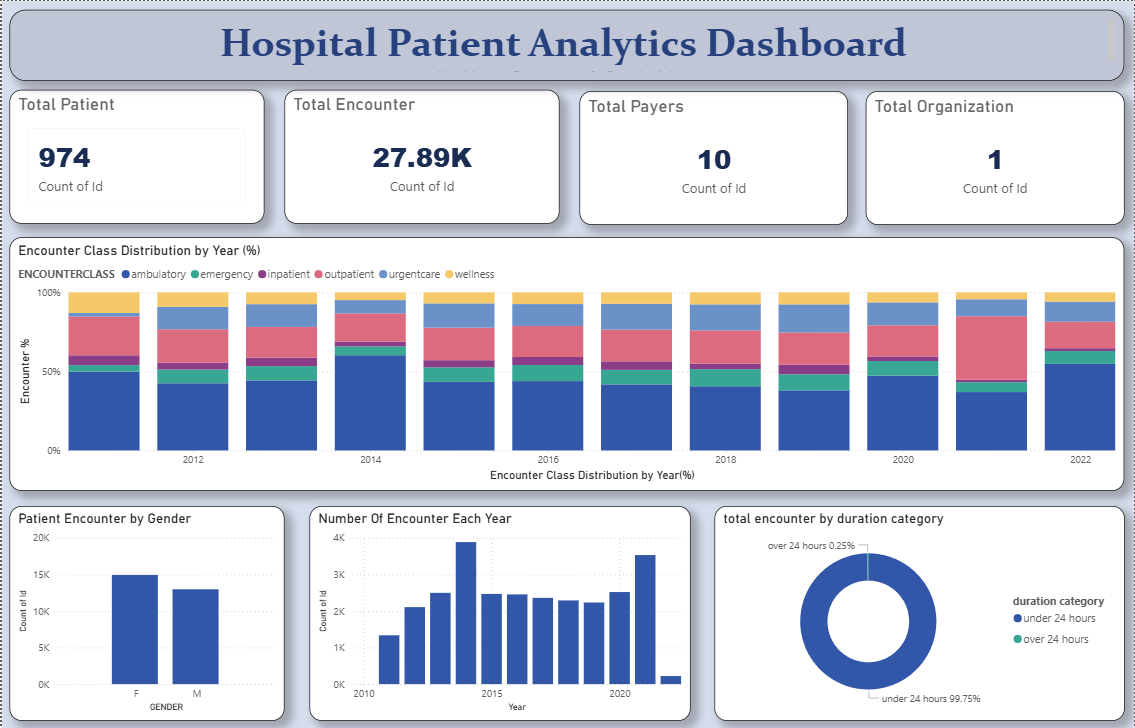

The page's visual inventory and layout, read from the dashboard file:
{"tool":"powerbi","page":{"name":"Healthcare Dashboard","canvas":[1400,900],"ordinal":0},"visuals":[{"type":"cardVisual","title":"Total Patient","fields":{"Data":["Count(patients.Id)"]},"box":[9.3,109.7,315.3,165.4],"z":0},{"type":"card","title":"Total Encounter","fields":{"Values":["CountNonNull(encounters.Id)"]},"box":[349.3,109.7,340,165.4],"z":1000},{"type":"card","title":"Total Organization","fields":{"Values":["Count(organizations.Id)"]},"box":[1068,111.3,319.9,165.4],"z":2000},{"type":"card","title":"Total Payers","fields":{"Values":["CountNonNull(payers.Id)"]},"box":[714.1,111.3,332.3,165.4],"z":3000},{"type":"textbox","box":[9.3,10.8,1378.7,88.1],"z":4000},{"type":"clusteredColumnChart","title":"Patient Encounter by Gender","fields":{"Category":["patients.GENDER"],"Y":["CountNonNull(encounters.Id)"]},"box":[9.3,624.4,340,265.8],"z":5000},{"type":"clusteredColumnChart","title":"Number Of Encounter Each Year","fields":{"Category":["encounters.START.Variation.Date Hierarchy.Year"],"Y":["CountNonNull(encounters.Id)"]},"box":[380.2,624.4,471.4,265.8],"z":6000},{"type":"columnChart","title":" Encounter Class Distribution by Year (%)","fields":{"Category":["encounters.ENCOUNTER YEAR"],"Series":["encounters.ENCOUNTERCLASS"],"Y":["encounters.encounter %"]},"box":[9.3,292.1,1378.7,313.8],"z":7000},{"type":"donutChart","fields":{"Category":["encounters.duration category"],"Y":["encounters.total encounter"]},"box":[881,624.4,507,265.8],"z":8000}]}

Visuals, with their boxes in screenshot pixels (x1, y1, x2, y2), scaled from the page's 1400x900 canvas onto the 1135x728 screenshot:
"Total Patient" cardVisual: l=8, t=89, r=263, b=223
"Total Encounter" card: l=283, t=89, r=559, b=223
"Total Organization" card: l=866, t=90, r=1125, b=224
"Total Payers" card: l=579, t=90, r=848, b=224
textbox: l=8, t=9, r=1125, b=80
"Patient Encounter by Gender" clusteredColumnChart: l=8, t=505, r=283, b=720
"Number Of Encounter Each Year" clusteredColumnChart: l=308, t=505, r=690, b=720
" Encounter Class Distribution by Year (%)" columnChart: l=8, t=236, r=1125, b=490
donutChart - encounters.duration category x encounters.total encounter: l=714, t=505, r=1125, b=720
